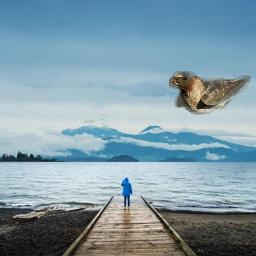Swallow: (169, 71, 251, 115)
